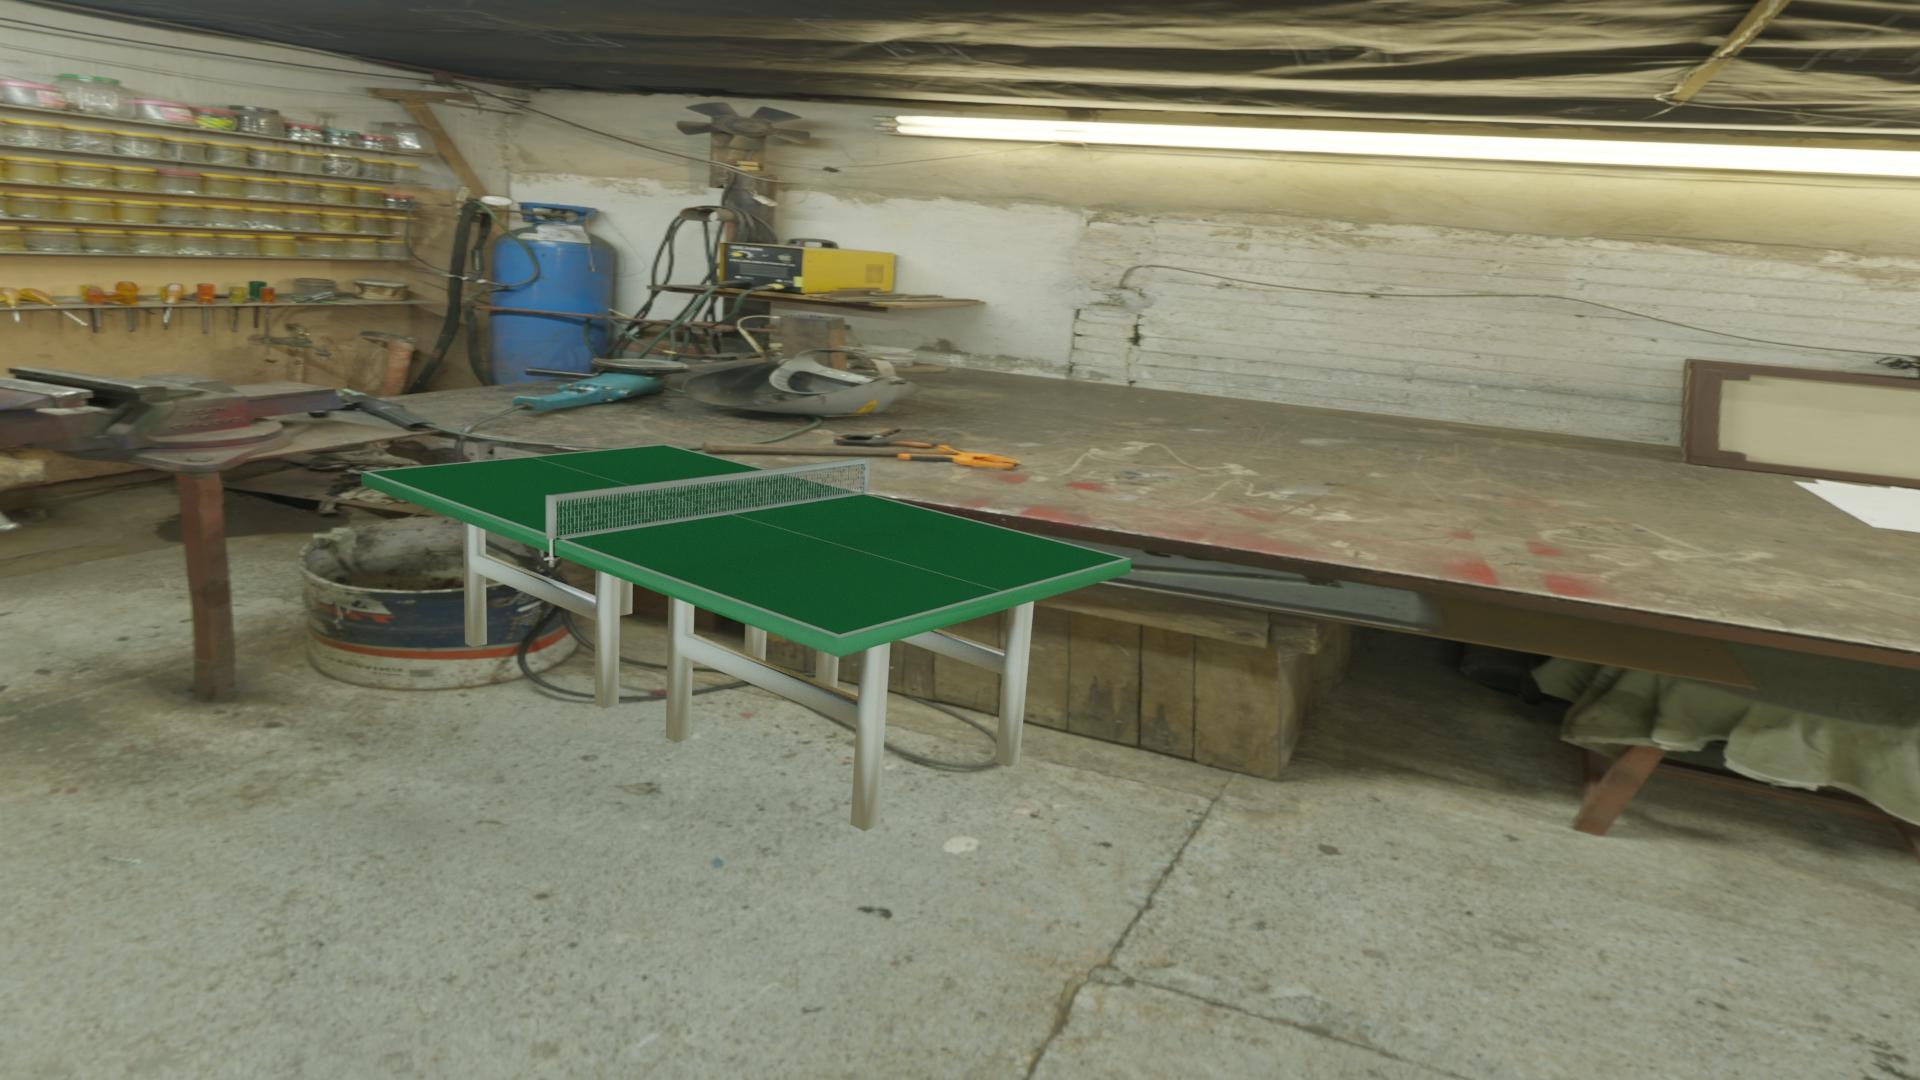table: (368, 444, 1125, 634)
